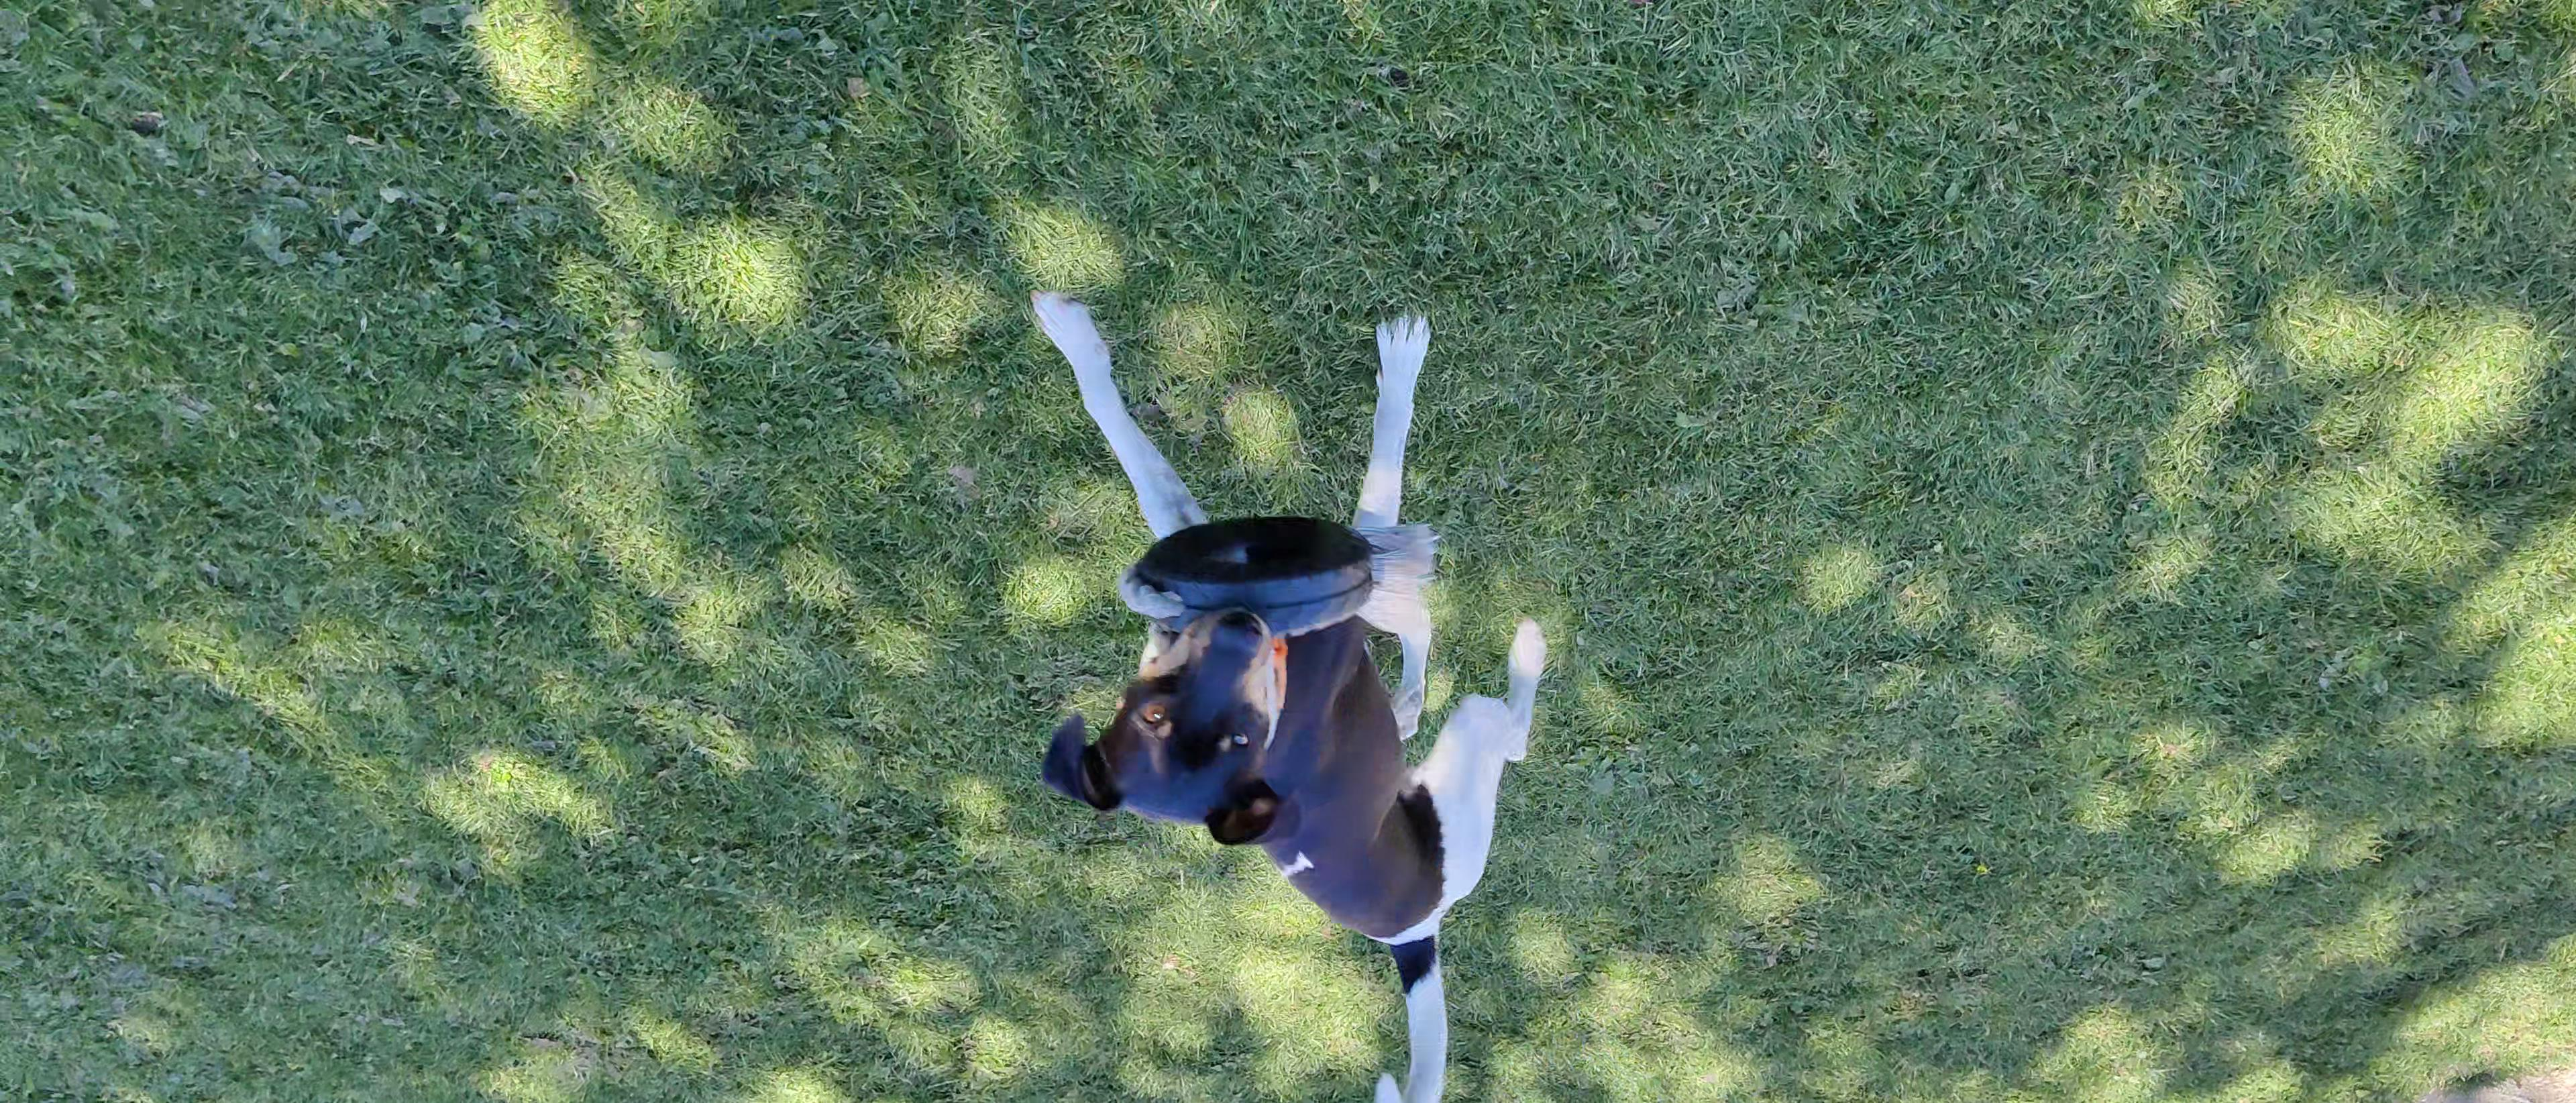Dog: (997, 270, 1557, 1103)
